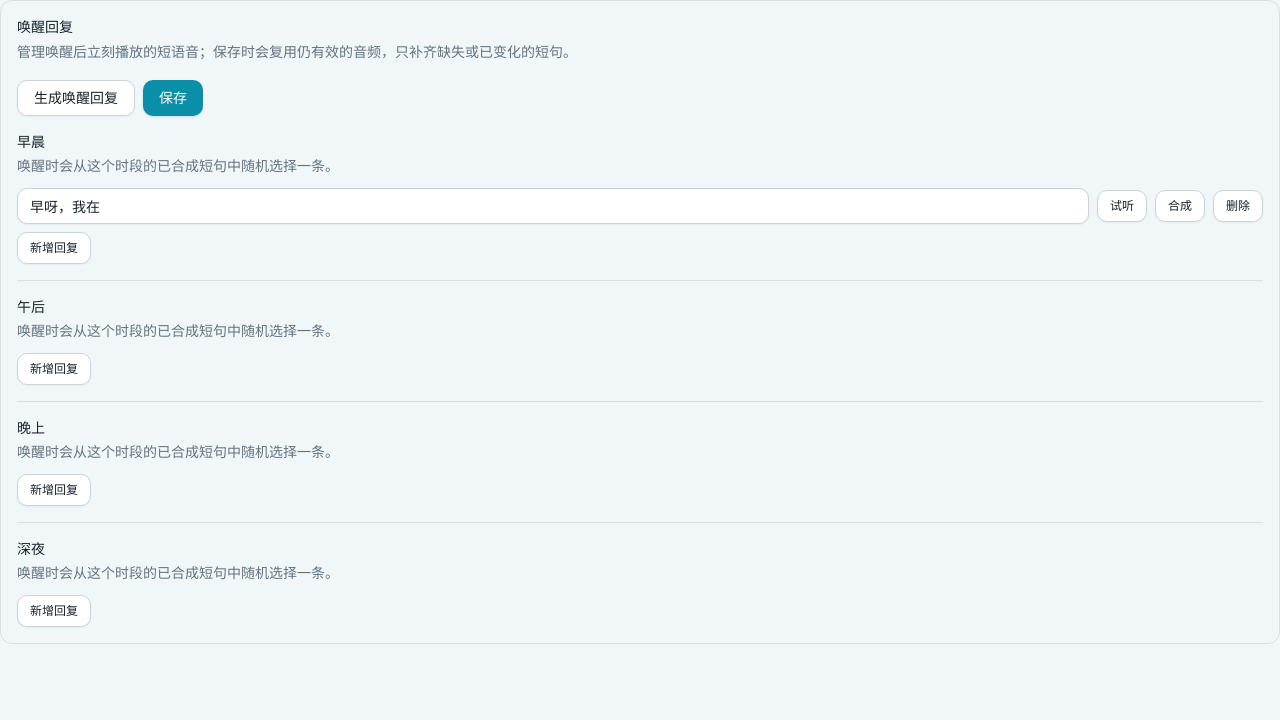
WakeResponseSettingsPanel › 编辑已合成文本后清除音频引用，并允许直接合成
This screenshot has width=1280, height=720.
Replace the text in the field named "早晨回复 1" with "早呀，新句子" at (553, 206), box [17,188,1089,224]
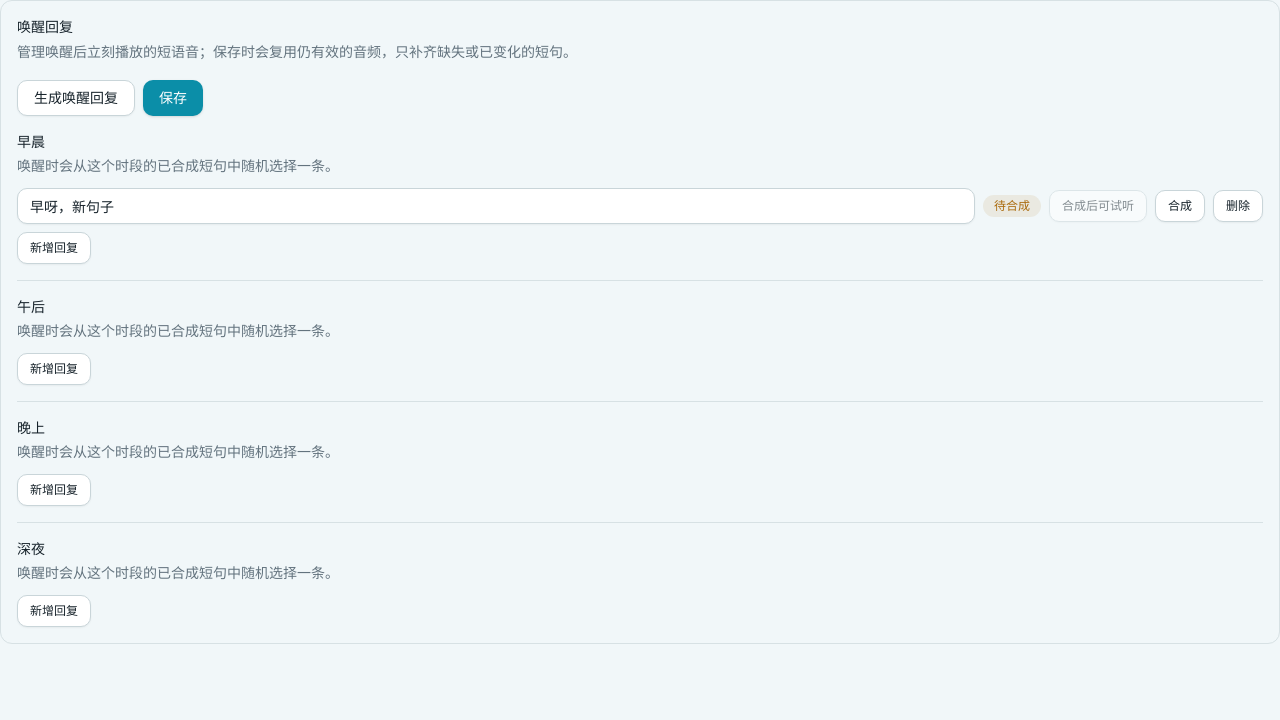
expect the button "合成" is enabled: met, box [1155,190,1205,222]
expect the button "合成后可试听" is disabled: met, box [1049,190,1147,222]
expect the text "待合成" is shown: met, box [983,195,1041,217]
